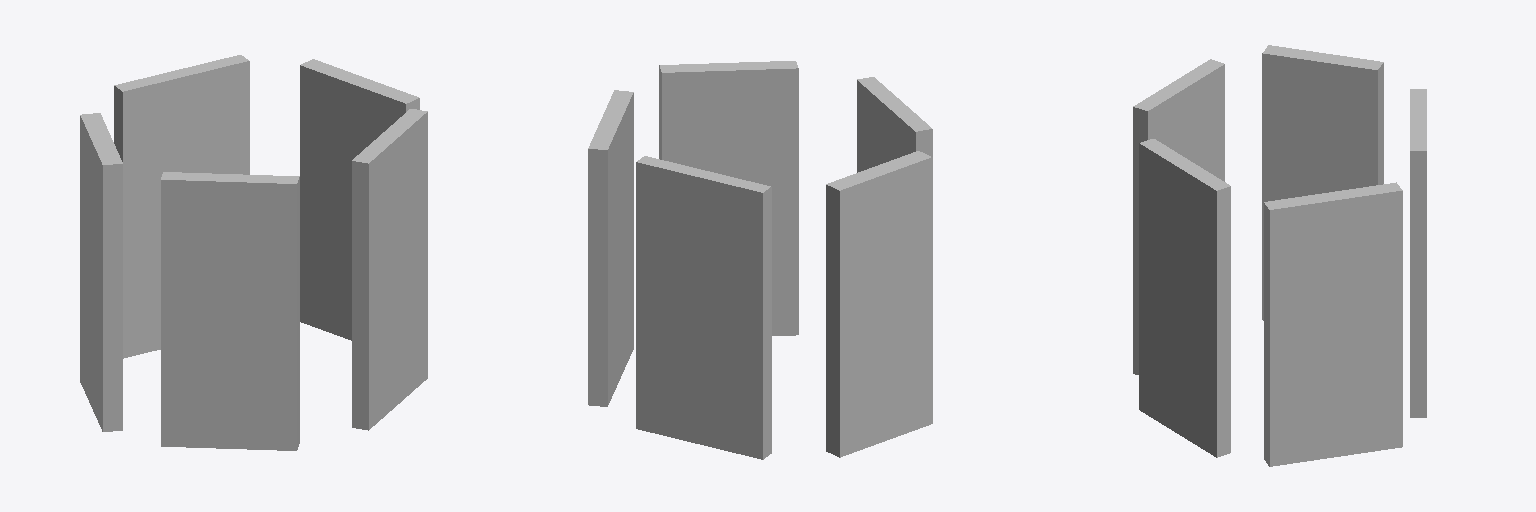
File: panes.obj
3 views of the same model, side by side, from view 1: azimuth 30°, elevation 25°; view 2: azimuth 150°, elevation 25°; view 3: azimuth 270°, elevation 25° (orthographic).
Visible parts, largest first — view 1: 003_Box_3, 004_Box_2, 001_Box_5, 005_Box_1, 002_Box_4; view 2: 001_Box_5, 002_Box_4, 004_Box_2, 005_Box_1, 003_Box_3; view 3: 005_Box_1, 004_Box_2, 002_Box_4, 003_Box_3, 001_Box_5.
Part boxes in pixels (x1,y1,x2,y2): 003_Box_3: (161,172,299,450); 004_Box_2: (352,109,427,430); 001_Box_5: (114,55,249,358); 005_Box_1: (300,59,419,340); 002_Box_4: (80,113,122,431); 001_Box_5: (636,156,771,459); 002_Box_4: (826,151,932,457); 004_Box_2: (659,61,798,335); 005_Box_1: (588,90,633,406); 003_Box_3: (857,77,932,172); 005_Box_1: (1264,182,1402,466); 004_Box_2: (1139,139,1230,457); 002_Box_4: (1262,45,1383,320); 003_Box_3: (1133,59,1224,374); 001_Box_5: (1410,89,1426,417).
Bounding box in the file's own units: 113 × 91.02 × 90.79.